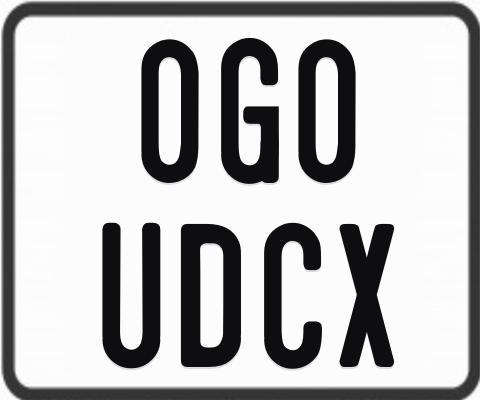0: (140, 39, 200, 185), (297, 37, 355, 186)
C: (264, 222, 326, 370)
D: (179, 224, 244, 370)
G: (220, 38, 281, 188)
U: (100, 220, 158, 370)
X: (339, 221, 397, 369)
